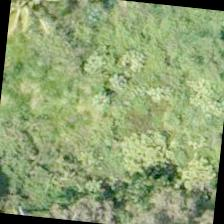Kelapa_Sawit: (7, 0, 67, 46)
